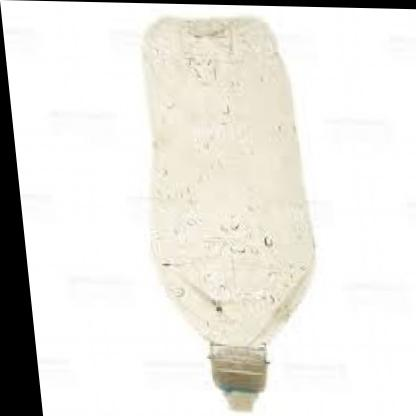Plastic: (107, 17, 337, 416)
